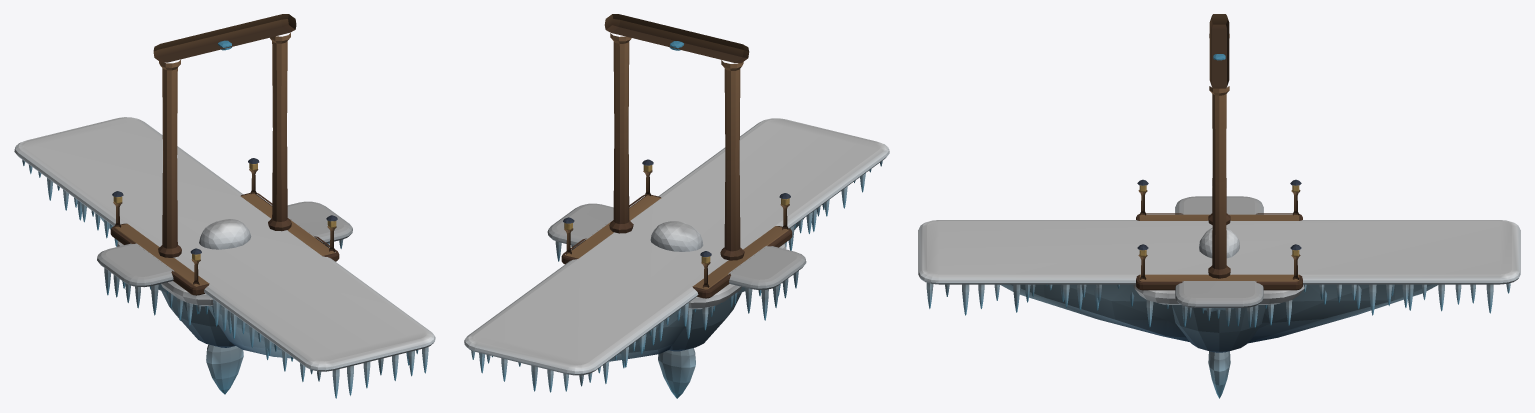
File: glacier-1-DRlaeFXo.glb
3 renders of one model, left to right at view 1: azimuth 30°, elevation 25°; view 2: azimuth 150°, elevation 25°; view 3: azimuth 270°, elevation 25°, orthographic. The views are drawn at different scales.
Visible parts, largest first — view 1: block_10x2x43#0, pressFrame_7x6x4x7#0, block_18x2x6#0, pad_12x2x12#0, disc_12x1.5#0, blade_3x12x1#0, boulder_4x3#0, block_9x2x29#0; view 2: block_10x2x43#0, pressFrame_7x6x4x7#0, block_18x2x6#0, pad_12x2x12#0, disc_12x1.5#0, blade_3x12x1#0, boulder_4x3#0, block_9x2x29#0; view 3: block_10x2x43#0, pad_12x2x12#0, pressFrame_7x6x4x7#0, block_18x2x6#0, disc_12x1.5#0, blade_3x12x1#0, block_9x2x29#0, boulder_4x3#0.
Boxes of the visible parts, x1=… form: block_10x2x43#0: x1=14, y1=117, x2=435, y2=398; pressFrame_7x6x4x7#0: x1=153, y1=14, x2=296, y2=257; block_18x2x6#0: x1=97, y1=201, x2=352, y2=315; pad_12x2x12#0: x1=110, y1=158, x2=339, y2=325; disc_12x1.5#0: x1=146, y1=210, x2=302, y2=347; blade_3x12x1#0: x1=206, y1=344, x2=243, y2=394; boulder_4x3#0: x1=199, y1=219, x2=251, y2=249; block_9x2x29#0: x1=77, y1=200, x2=292, y2=361; block_10x2x43#0: x1=464, y1=118, x2=889, y2=392; pressFrame_7x6x4x7#0: x1=604, y1=14, x2=749, y2=260; block_18x2x6#0: x1=547, y1=203, x2=806, y2=320; pad_12x2x12#0: x1=561, y1=159, x2=792, y2=339; disc_12x1.5#0: x1=598, y1=212, x2=755, y2=351; blade_3x12x1#0: x1=658, y1=348, x2=695, y2=398; boulder_4x3#0: x1=650, y1=221, x2=703, y2=251; block_9x2x29#0: x1=621, y1=203, x2=824, y2=368; block_10x2x43#0: x1=918, y1=220, x2=1520, y2=343; pad_12x2x12#0: x1=1133, y1=179, x2=1304, y2=327; pressFrame_7x6x4x7#0: x1=1208, y1=14, x2=1230, y2=278; block_18x2x6#0: x1=1175, y1=196, x2=1263, y2=327; disc_12x1.5#0: x1=1172, y1=305, x2=1267, y2=352; blade_3x12x1#0: x1=1208, y1=351, x2=1230, y2=398; block_9x2x29#0: x1=1025, y1=284, x2=1413, y2=310; boulder_4x3#0: x1=1199, y1=227, x2=1239, y2=258.
Size of the model in its own units: 18.36 by 28.1 by 43.36.
